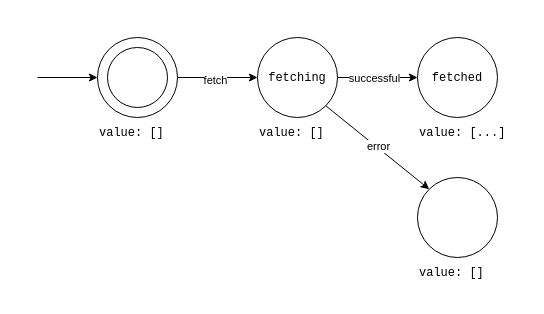
This 544x314 diagram has some shape labels left out. Each missing label, with the centre of its shape:
"fetch failed" belongs at point (457, 217).
"not-fetched" belongs at point (137, 77).
